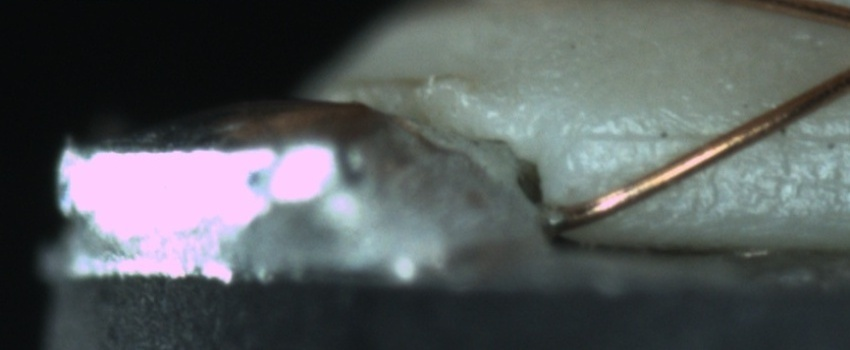DL: (579, 104, 843, 169)
